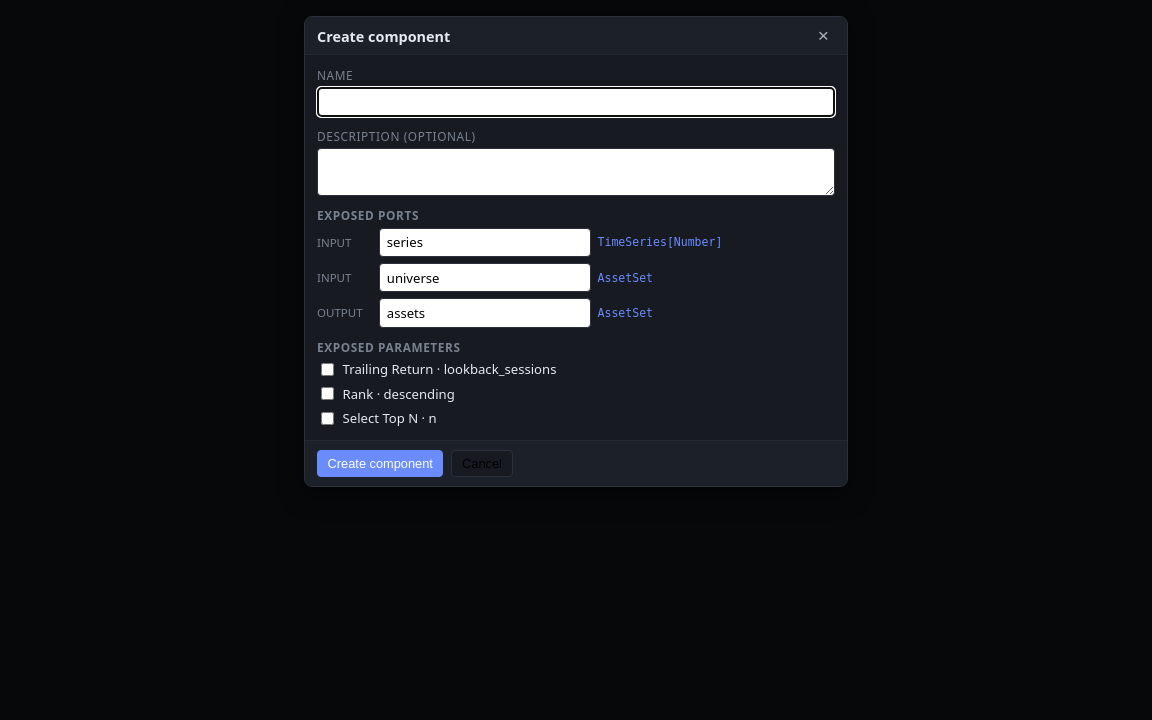
Scenario: ExtractDialog clobber guards + polish (M12.5b) › abort controls (Cancel / ×) are disabled while a commit is in flight (FIX 1.1)
The width and height of the screenshot is (1152, 720).
Type "Momentum" into the field named "component name" at (576, 102), box x1=317 y1=87 x2=835 y2=117
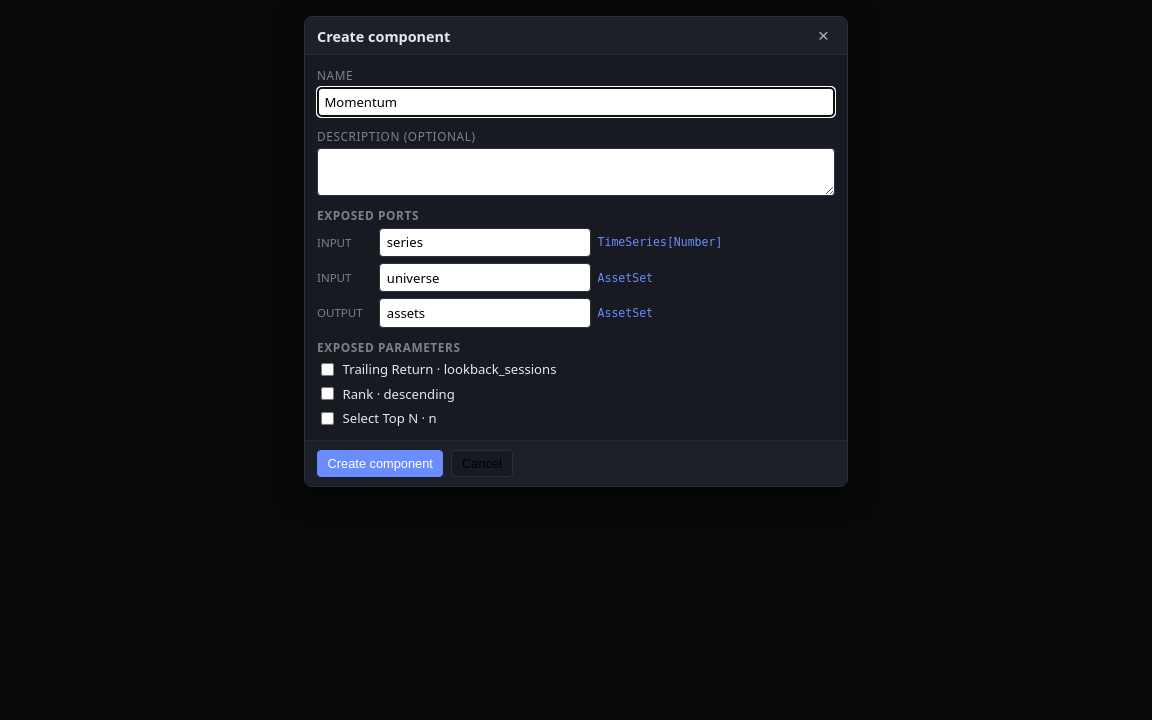
Click the button "Create component" at (380, 464), box x1=317 y1=450 x2=444 y2=477
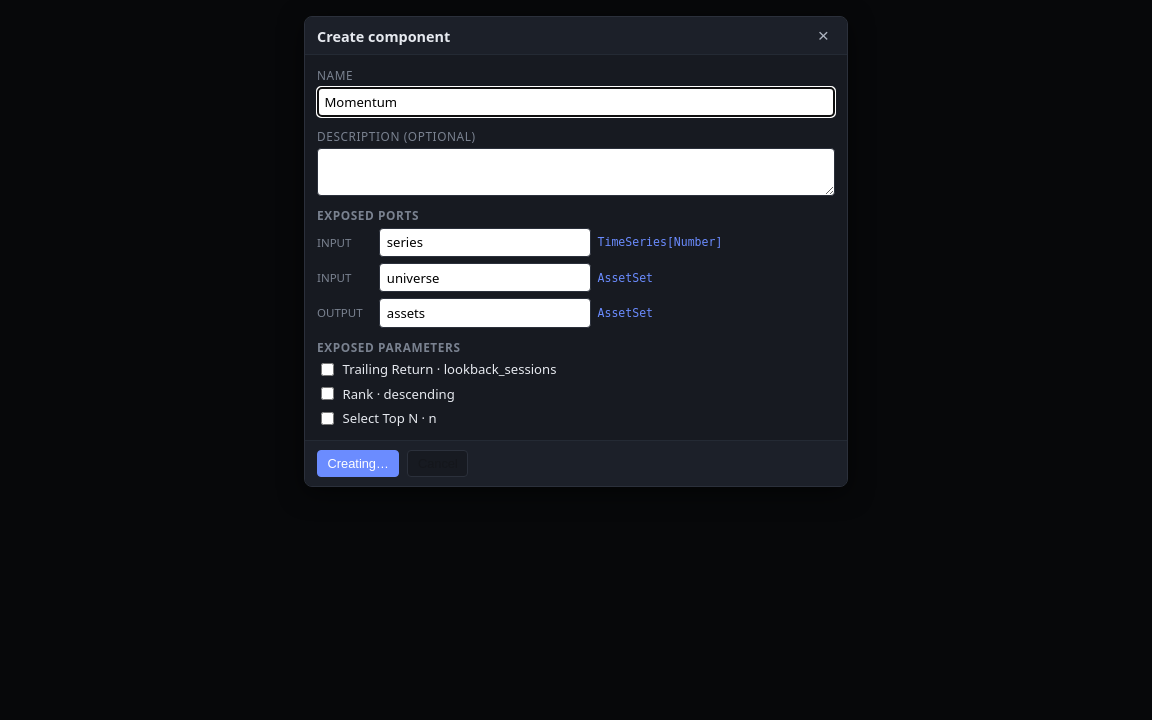
Expected: the button named "close" is disabled, x1=812 y1=25 x2=835 y2=46
Expected: the button "Creating…" is disabled, x1=317 y1=450 x2=399 y2=477
Expected: the button "Cancel" is disabled, x1=407 y1=450 x2=468 y2=477
